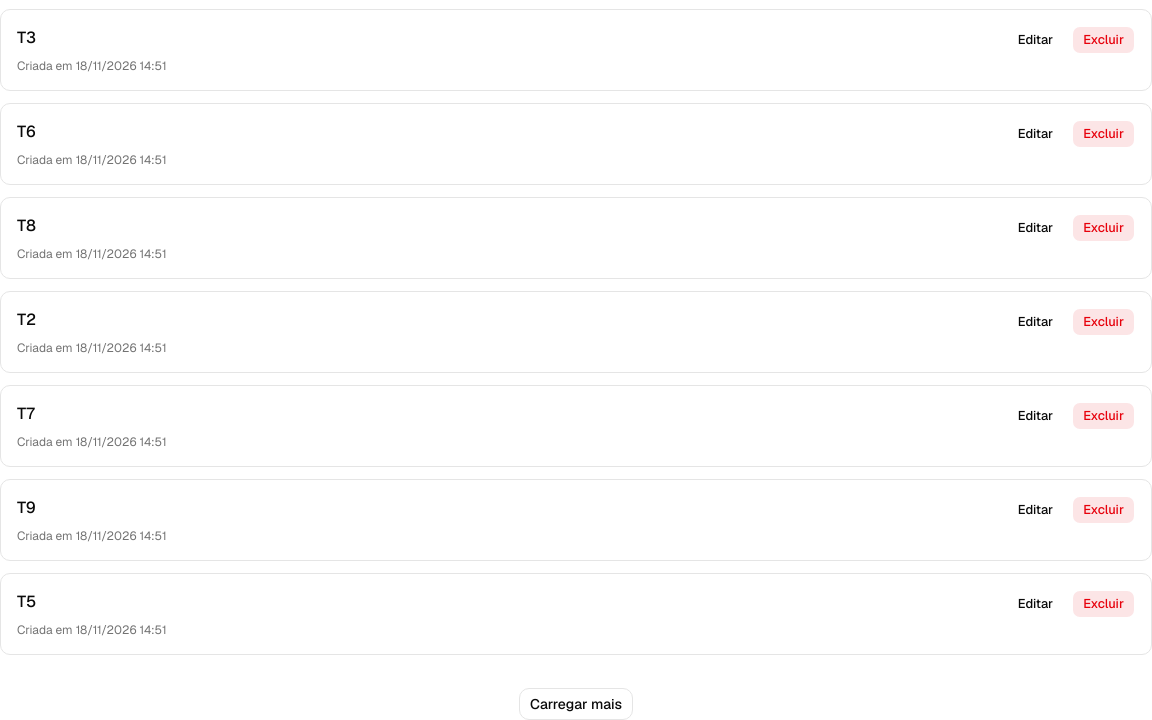
Scenario: TarefasPagina: carregamento incremental › botão Carregar mais busca a próxima página
(page scrolled)
Click the button "Carregar mais": (576, 704) top-left (519, 688), bottom-right (633, 719)
(page scrolled)
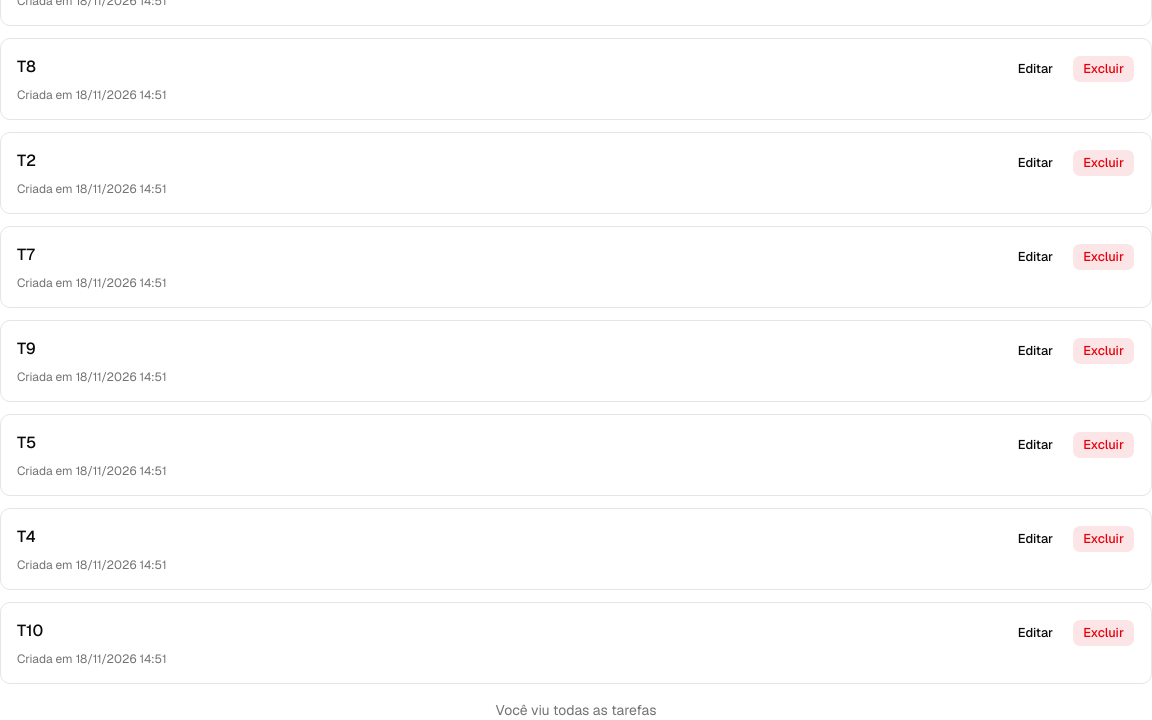
Expected: the number of list items is 12
Expected: the text "Você viu todas as tarefas" is shown, top-left (496, 700), bottom-right (656, 719)
